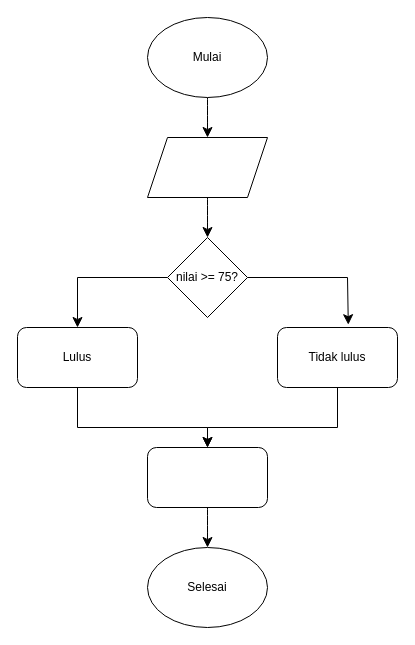
Image size: 415x645. Some labels were removed from this diagram. The centre of each missing label's shape, as x and y in pixels:
"masukan nilai" belongs at pixel 207 167.
"print hasil" belongs at pixel 207 477.
